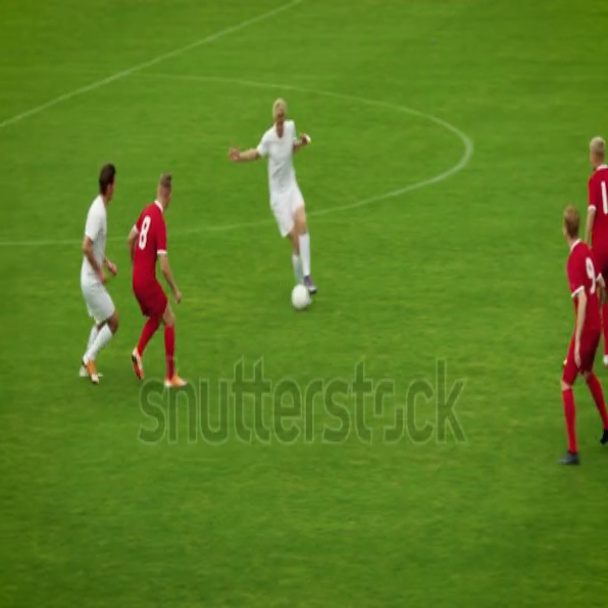ball: (293, 281, 311, 317)
